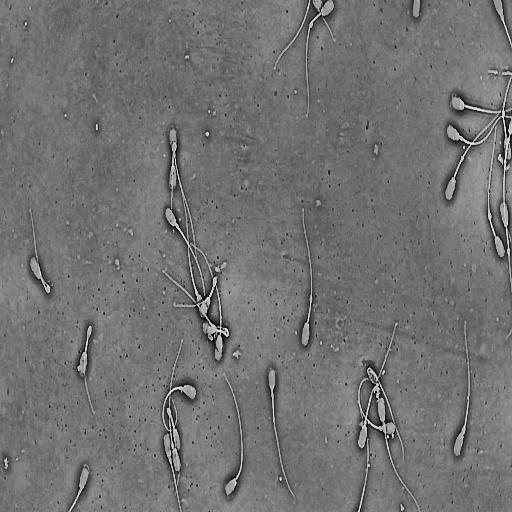coiled-tail: (202, 320, 230, 338), (212, 324, 229, 338)
dirt-particles: (2, 454, 10, 471)
distal-droplet: (487, 210, 493, 223), (308, 19, 314, 30), (506, 246, 511, 258), (460, 153, 465, 163), (309, 295, 314, 304), (502, 109, 505, 119)
folded-tail: (367, 367, 405, 465), (29, 208, 51, 295), (172, 276, 217, 308), (166, 407, 180, 493), (83, 325, 96, 416), (170, 140, 177, 234)
loose-tail: (272, 0, 312, 70)
normal: (444, 95, 507, 203), (357, 318, 398, 451), (376, 396, 422, 512), (162, 270, 225, 353), (163, 207, 207, 321), (187, 241, 224, 363), (178, 179, 208, 319), (168, 134, 198, 270), (267, 365, 297, 499), (366, 365, 405, 465), (305, 0, 335, 119), (222, 371, 245, 498), (485, 125, 505, 262), (451, 319, 470, 461), (357, 377, 396, 438), (445, 113, 512, 148), (28, 206, 52, 296), (168, 338, 184, 473), (173, 275, 218, 320), (300, 206, 314, 349), (76, 323, 96, 416), (161, 382, 197, 433), (162, 432, 182, 512), (449, 93, 512, 116), (166, 406, 181, 493), (499, 201, 512, 294), (67, 466, 90, 512), (501, 71, 512, 163), (167, 140, 177, 235)
proximal-droplet: (460, 425, 466, 435), (168, 455, 173, 467), (194, 287, 199, 298), (78, 486, 83, 496), (179, 385, 184, 394), (270, 391, 275, 399), (459, 134, 464, 142), (170, 442, 175, 450), (378, 425, 383, 432), (363, 419, 367, 427), (175, 222, 179, 230)
